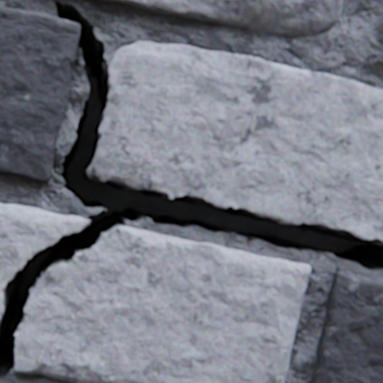brick: (0, 6, 79, 182), (99, 0, 342, 37), (308, 273, 382, 382)
broken_brick: (94, 42, 382, 244), (14, 226, 309, 382), (0, 203, 89, 319)
crack: (0, 1, 382, 381)
